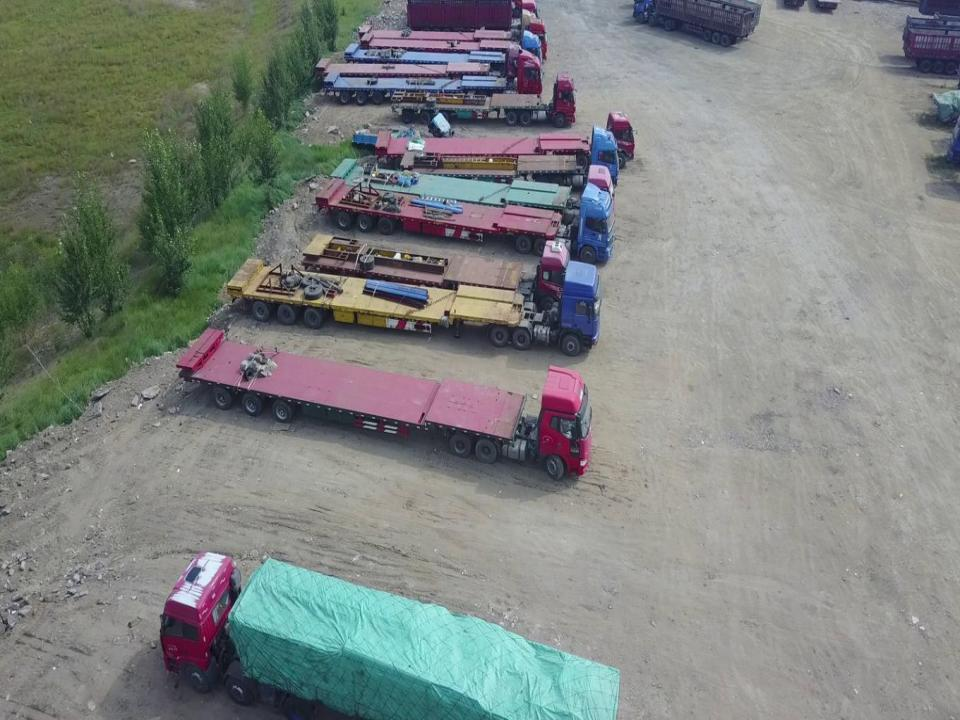truck: (148, 550, 627, 720), (172, 318, 595, 478), (225, 254, 604, 358), (309, 177, 616, 269), (296, 235, 570, 308), (326, 162, 618, 226), (372, 110, 636, 170), (395, 128, 620, 192), (326, 50, 550, 105), (312, 26, 545, 74), (389, 72, 583, 129), (311, 0, 542, 37), (313, 18, 545, 54), (629, 0, 767, 50)
